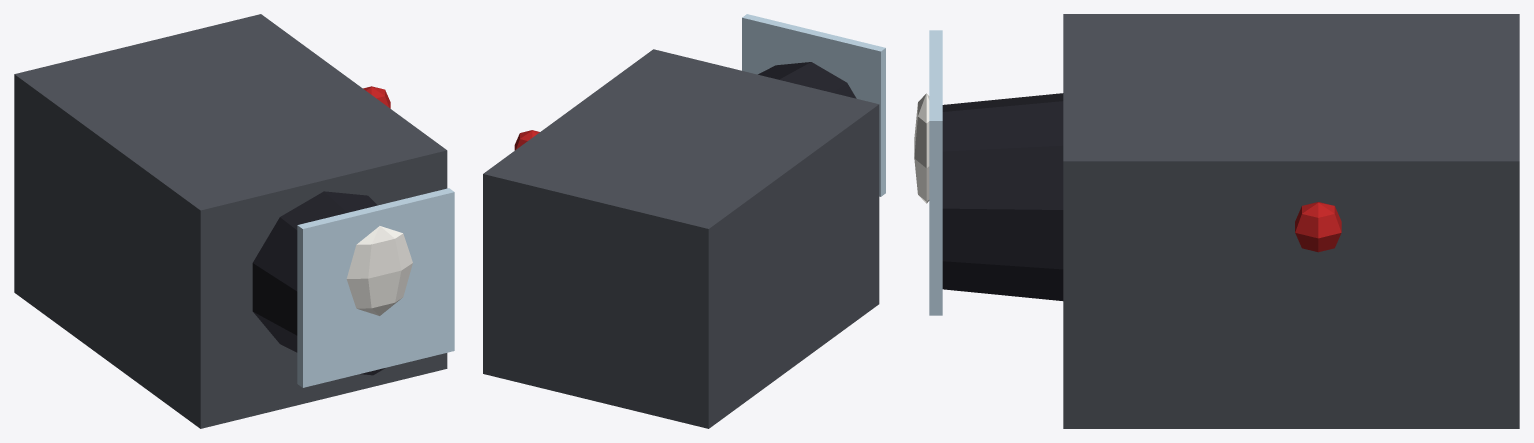
Rendered from ghost_projector.glb.
The picture shows the model from 3 angles, left to right: view 1: azimuth 30°, elevation 25°; view 2: azimuth 150°, elevation 25°; view 3: azimuth 270°, elevation 25°; orthographic projection. The views are drawn at different scales.
Visible parts, largest first — view 1: body_ghost_proj_grey, slide_ghost_slide, lens_ghost_lens, ghost_white; view 2: body_ghost_proj_grey, slide_ghost_slide, lens_ghost_lens; view 3: body_ghost_proj_grey, lens_ghost_lens, slide_ghost_slide, crank_ghost_proj_grey, knob_ghost_knob, ghost_white.
Part boxes in pixels (x1=…): body_ghost_proj_grey: x1=14, y1=14, x2=447, y2=428; slide_ghost_slide: x1=297, y1=188, x2=454, y2=387; lens_ghost_lens: x1=252, y1=191, x2=385, y2=375; ghost_white: x1=346, y1=226, x2=412, y2=315; body_ghost_proj_grey: x1=483, y1=49, x2=879, y2=428; slide_ghost_slide: x1=742, y1=14, x2=885, y2=196; lens_ghost_lens: x1=758, y1=62, x2=856, y2=98; body_ghost_proj_grey: x1=1063, y1=14, x2=1519, y2=428; lens_ghost_lens: x1=942, y1=93, x2=1063, y2=300; slide_ghost_slide: x1=929, y1=30, x2=942, y2=315; crank_ghost_proj_grey: x1=1305, y1=249, x2=1331, y2=342; knob_ghost_knob: x1=1295, y1=202, x2=1341, y2=252; ghost_white: x1=914, y1=93, x2=929, y2=203.
Size of the model in its own units: 0.31 by 0.23 by 0.4511.
